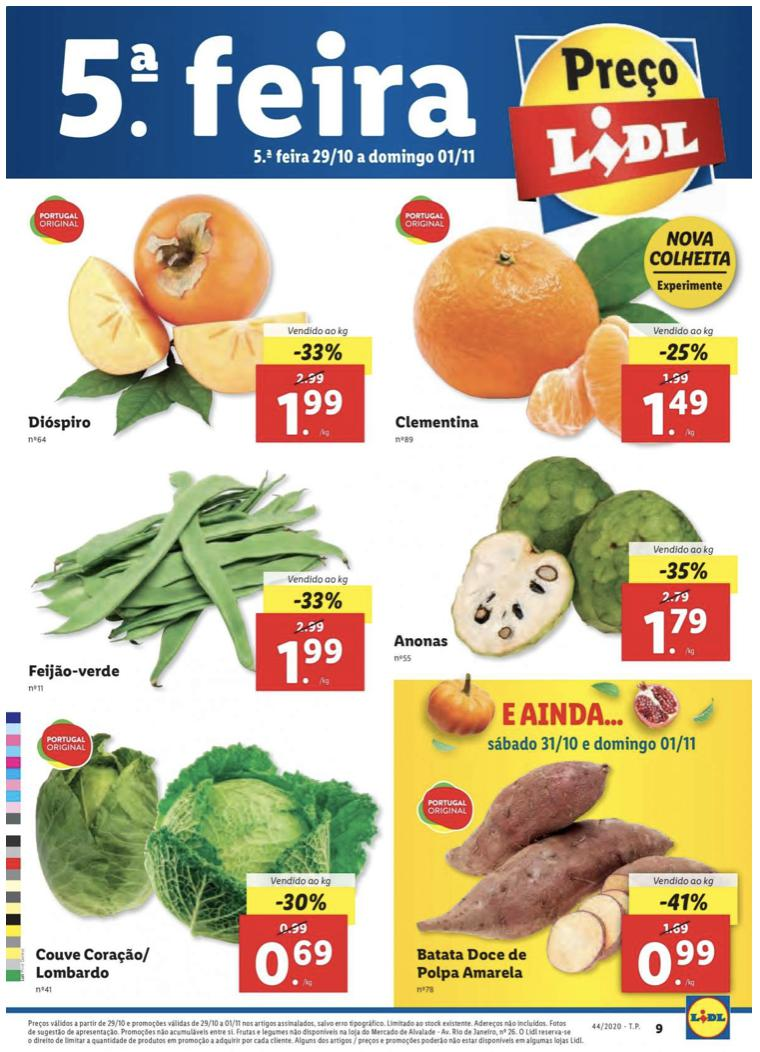name: (411, 941, 531, 984), (33, 944, 155, 982), (394, 412, 485, 434), (25, 661, 125, 680), (26, 413, 95, 432), (391, 634, 454, 651)
price: (252, 934, 335, 988), (634, 601, 706, 658), (635, 938, 717, 988), (274, 632, 347, 688), (643, 375, 712, 434), (274, 386, 348, 436)
product: (9, 182, 393, 454), (29, 712, 376, 1001), (377, 179, 755, 440), (13, 460, 376, 699), (382, 453, 755, 680), (408, 756, 744, 991)
promotion: (290, 339, 348, 365), (273, 890, 333, 914), (289, 588, 344, 612), (657, 341, 713, 364), (655, 558, 711, 580), (659, 890, 709, 913)
